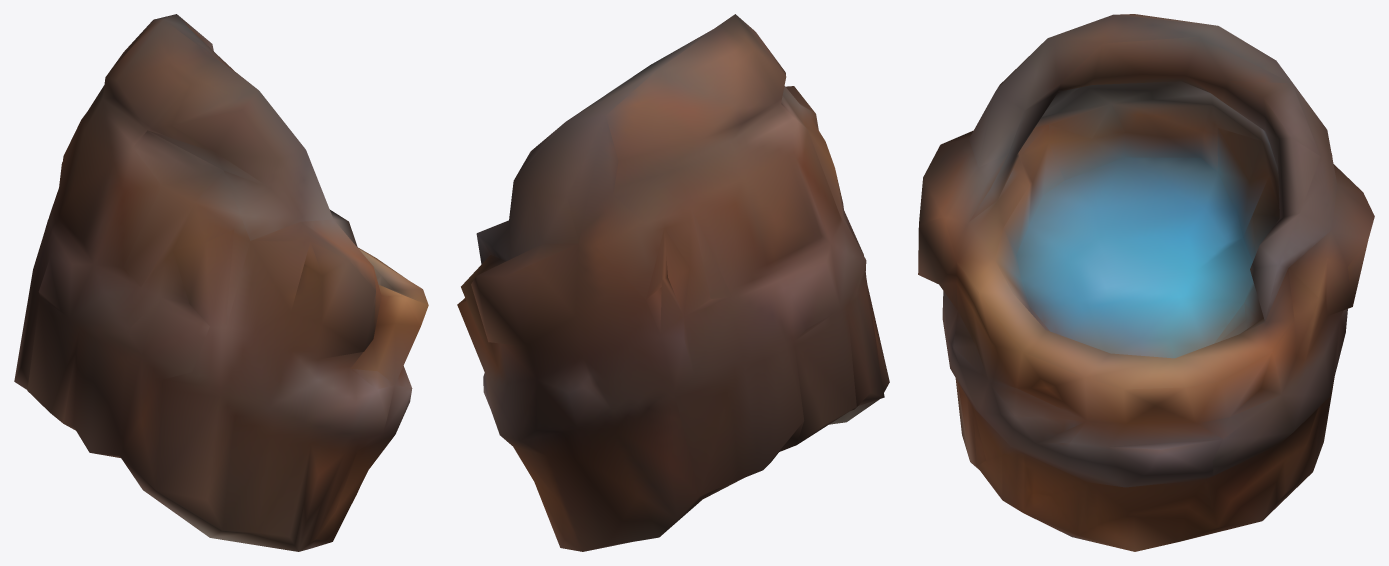
File: water_bucket.glb
3 renders of one model, left to right at view 1: azimuth 30°, elevation 25°; view 2: azimuth 150°, elevation 25°; view 3: azimuth 270°, elevation 25°, orthographic. The views are drawn at different scales.
Visible parts, largest first — view 1: model; view 2: model; view 3: model.
Boxes of the visible parts, x1,y1,x2,y2 form: model: [14, 14, 428, 551]; model: [457, 14, 889, 551]; model: [918, 14, 1374, 551].
Bounding box in the file's own units: 0.2994 × 0.4002 × 0.341.
1 material, 1 textured.
